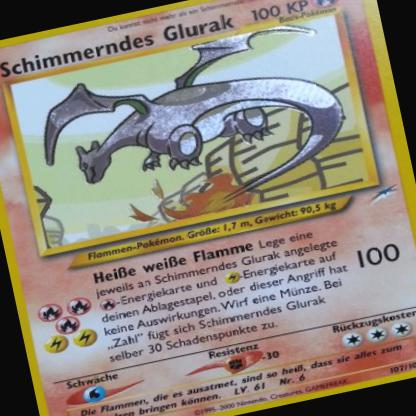Squirtle: (26, 20, 359, 240)
